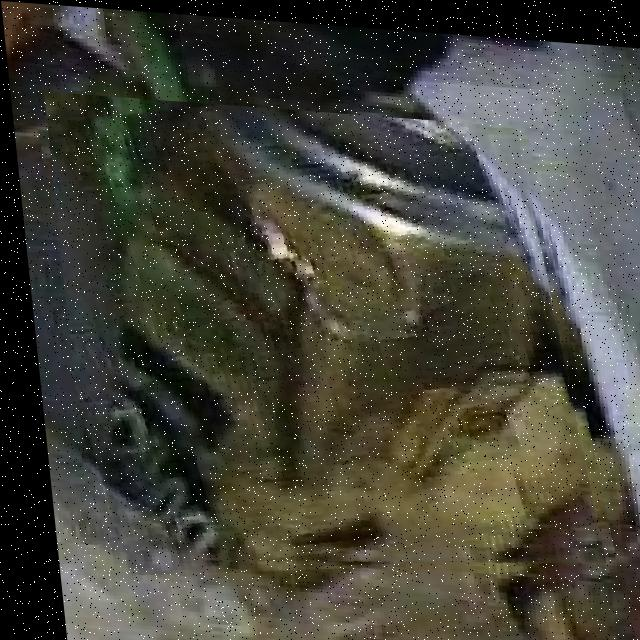litter: (41, 90, 596, 588)
